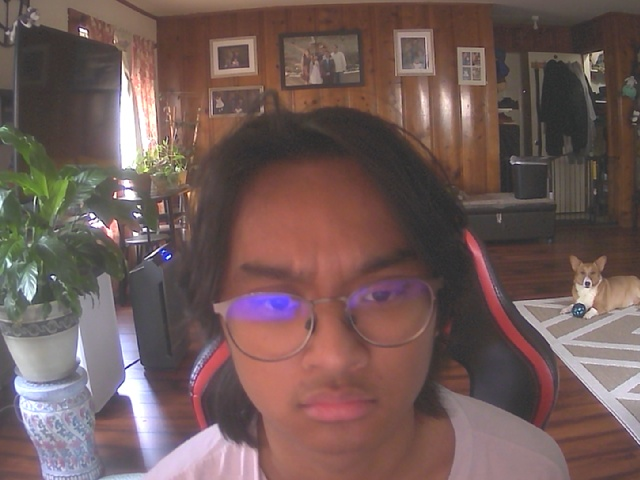anger: (202, 123, 458, 463)
